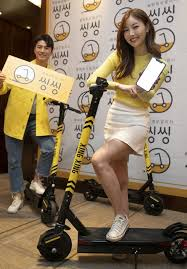kick_wheel: (38, 229, 71, 260), (164, 230, 187, 263), (142, 195, 163, 216), (82, 179, 98, 200), (40, 201, 55, 223)
